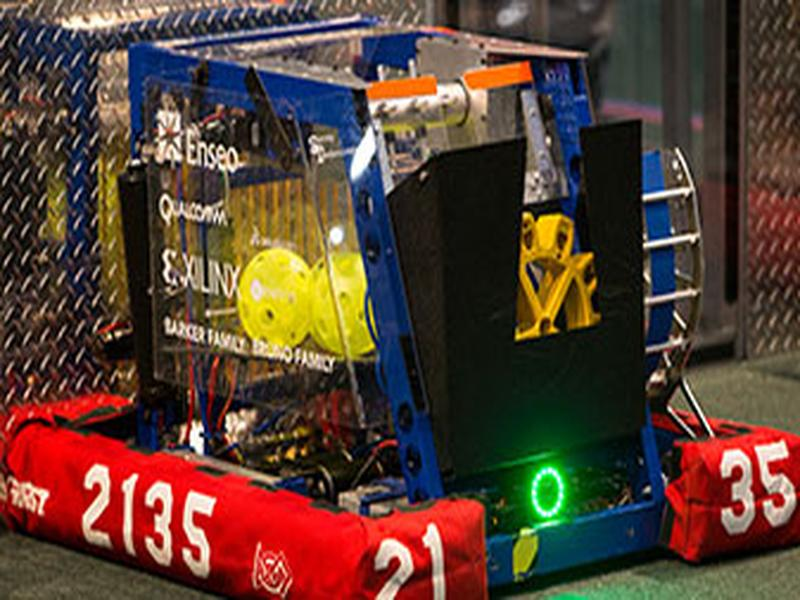robot: (7, 20, 793, 587)
